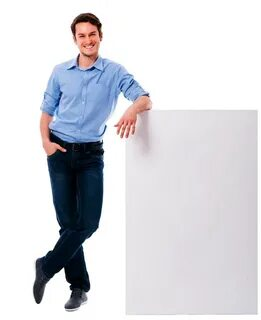awake: (32, 12, 153, 313)
